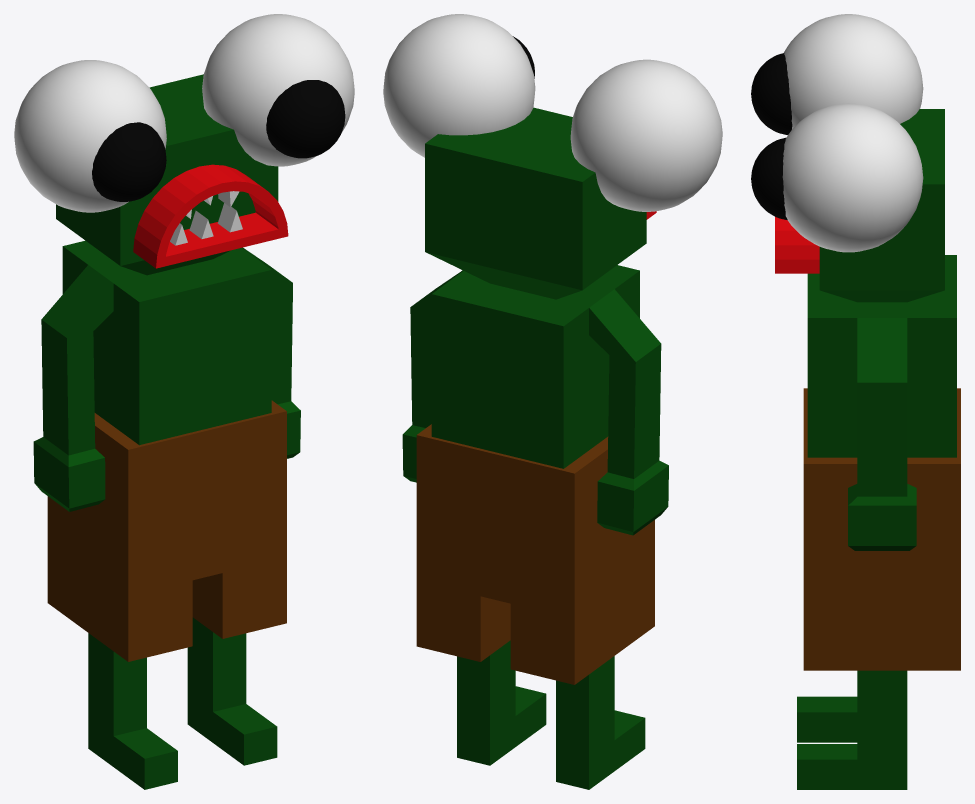
File: enemigo.glb
3 views of the same model, side by side, from view 1: azimuth 30°, elevation 25°; view 2: azimuth 150°, elevation 25°; view 3: azimuth 270°, elevation 25° (orthographic). The views are drawn at different scales.
Visible parts, largest first — view 1: Cube, Cube.007, Sphere, Sphere.001, Cylinder; view 2: Cube, Cube.007, Sphere; view 3: Cube, Cube.007, Sphere, Sphere.001, Cylinder.
Part boxes in pixels (x1,y1,x2,y2): Cube: (33,74,300,789); Cube.007: (47,400,286,661); Sphere: (14,14,354,212); Sphere.001: (92,80,345,201); Cylinder: (133,164,288,268); Cube: (402,107,668,789); Cube.007: (416,424,654,684); Sphere: (383,14,722,211); Cube: (797,109,956,789); Cube.007: (803,388,960,670); Sphere: (782,14,923,252); Sphere.001: (751,53,792,220); Cylinder: (775,217,819,273).
Size of the model in its own units: 4.84 by 10.25 by 2.81.
